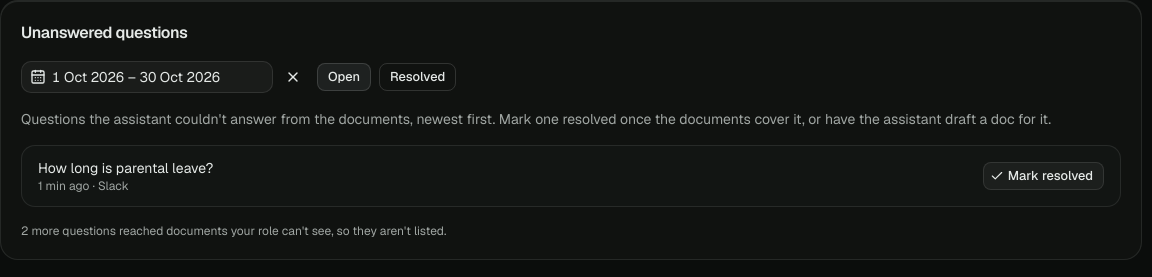
Scenario: NotFoundQuestions › asks for the resolved ones, which can be reopened
Check: the text "How long is parental leave?" is shown, box left=38, top=158, right=213, bottom=178
Click the radio button labelled "Resolved" at (418, 77), box left=379, top=63, right=456, bottom=91
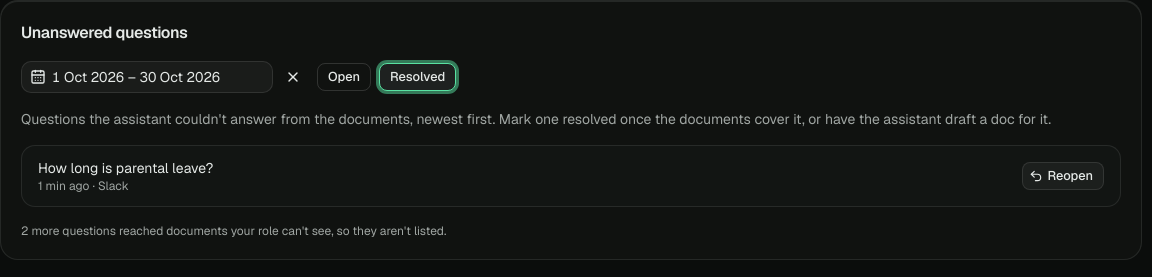
Check: the button "Reopen" is shown, box left=1022, top=162, right=1104, bottom=190
